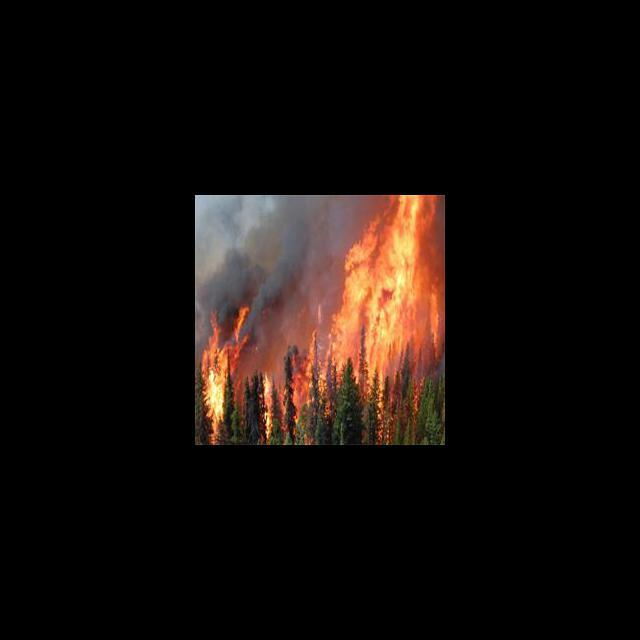Fire: (340, 195, 444, 390), (262, 323, 338, 432), (200, 306, 256, 431)
Smoke: (200, 195, 336, 304)
